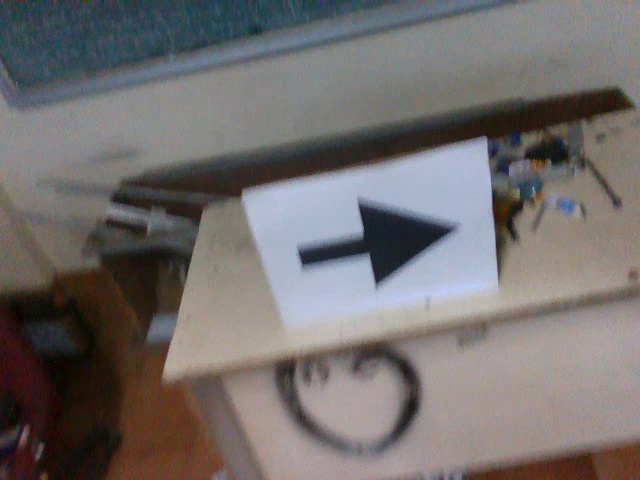Right: (294, 191, 464, 293)
